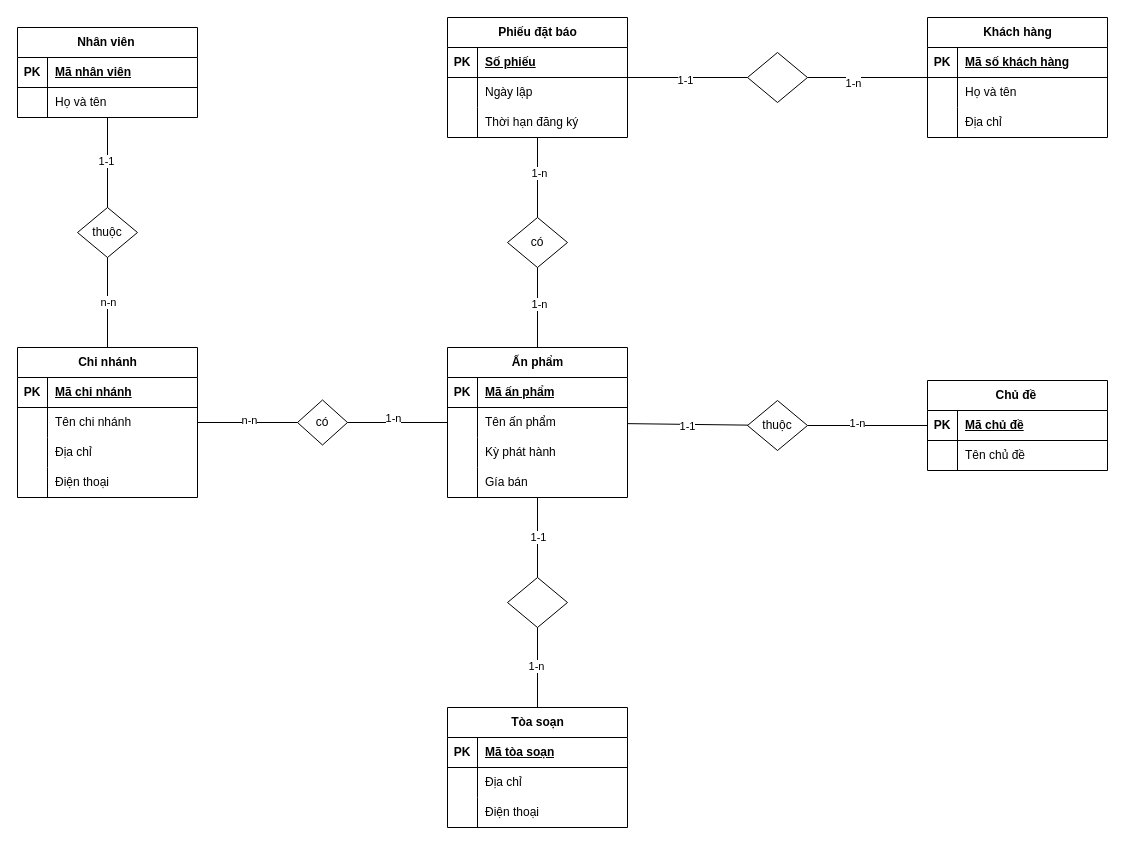
Some shapes in this 1125 by 845 pixel diagram are drawn without their labels. The shapes that lost their labels are listed below. From the top down, each one's centre as x and y in pixels, then its label:
pixel 777 77: đặt
pixel 537 602: phát hành
